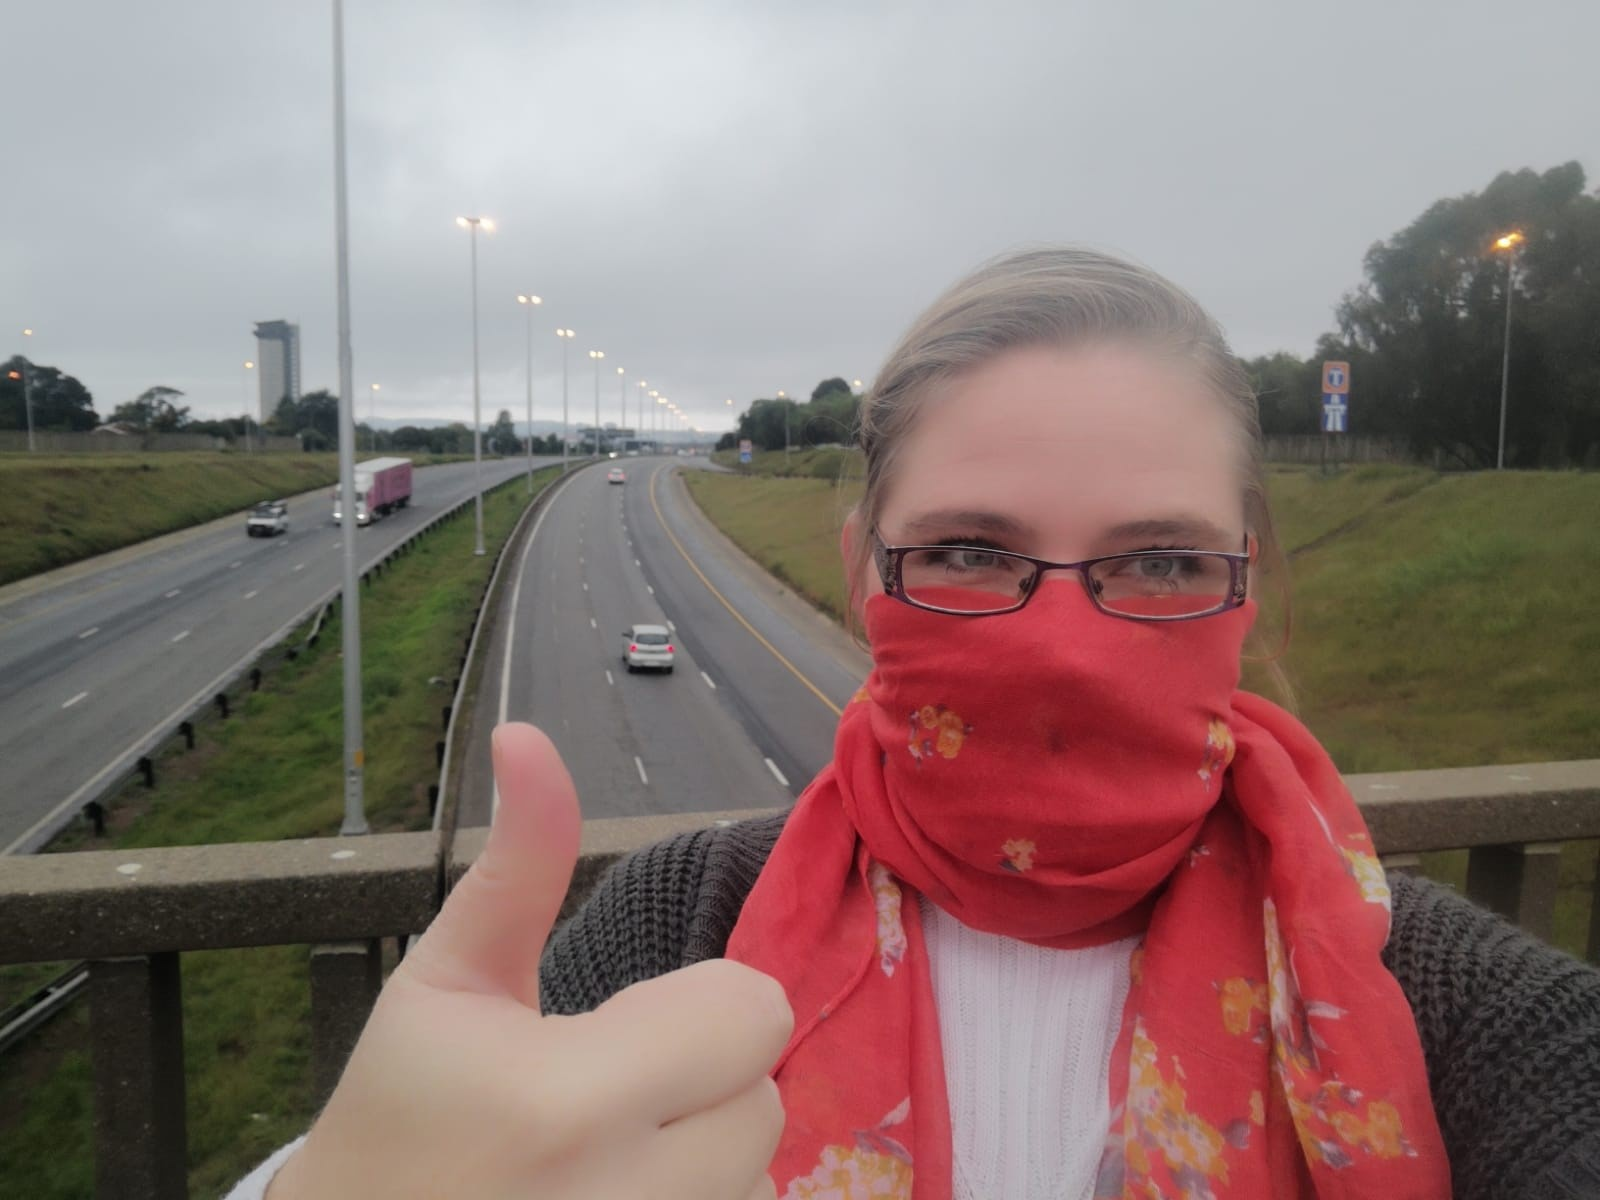face_with_mask: (862, 256, 1255, 881)
